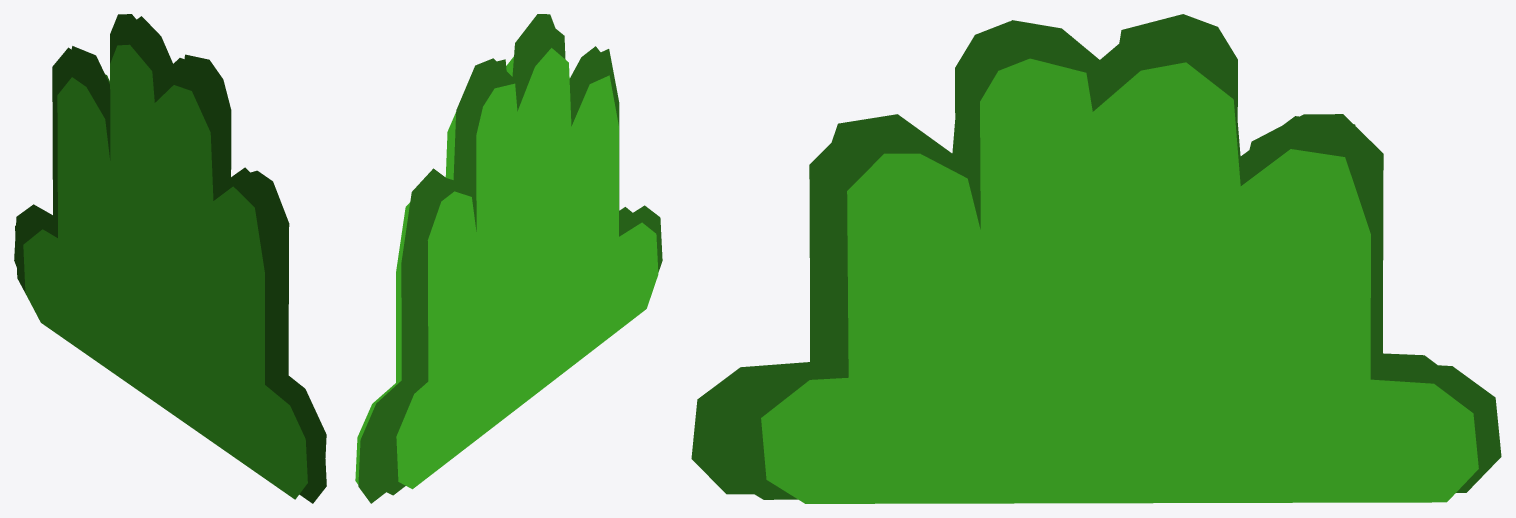
Rendered from Arbusto.fbx.
3 views of the same model, side by side, from view 1: azimuth 30°, elevation 25°; view 2: azimuth 150°, elevation 25°; view 3: azimuth 270°, elevation 25° (orthographic). The views are drawn at different scales.
Visible parts, largest first — view 1: Plane.008, Plane.009, Plane.010; view 2: Plane.008, Plane.009, Plane.010, Plane.011; view 3: Plane.011, Plane.010, Plane.009.
Boxes of the visible parts, bbox=[...] form: Plane.008: bbox=[23, 44, 307, 499]; Plane.009: bbox=[15, 14, 326, 503]; Plane.010: bbox=[14, 16, 326, 457]; Plane.008: bbox=[396, 48, 658, 489]; Plane.009: bbox=[375, 20, 662, 495]; Plane.010: bbox=[358, 14, 632, 503]; Plane.011: bbox=[355, 56, 513, 484]; Plane.011: bbox=[761, 58, 1478, 503]; Plane.010: bbox=[715, 21, 1501, 499]; Plane.009: bbox=[691, 14, 1437, 494].
Size of the model in its own units: 8.86 by 107 by 164.
